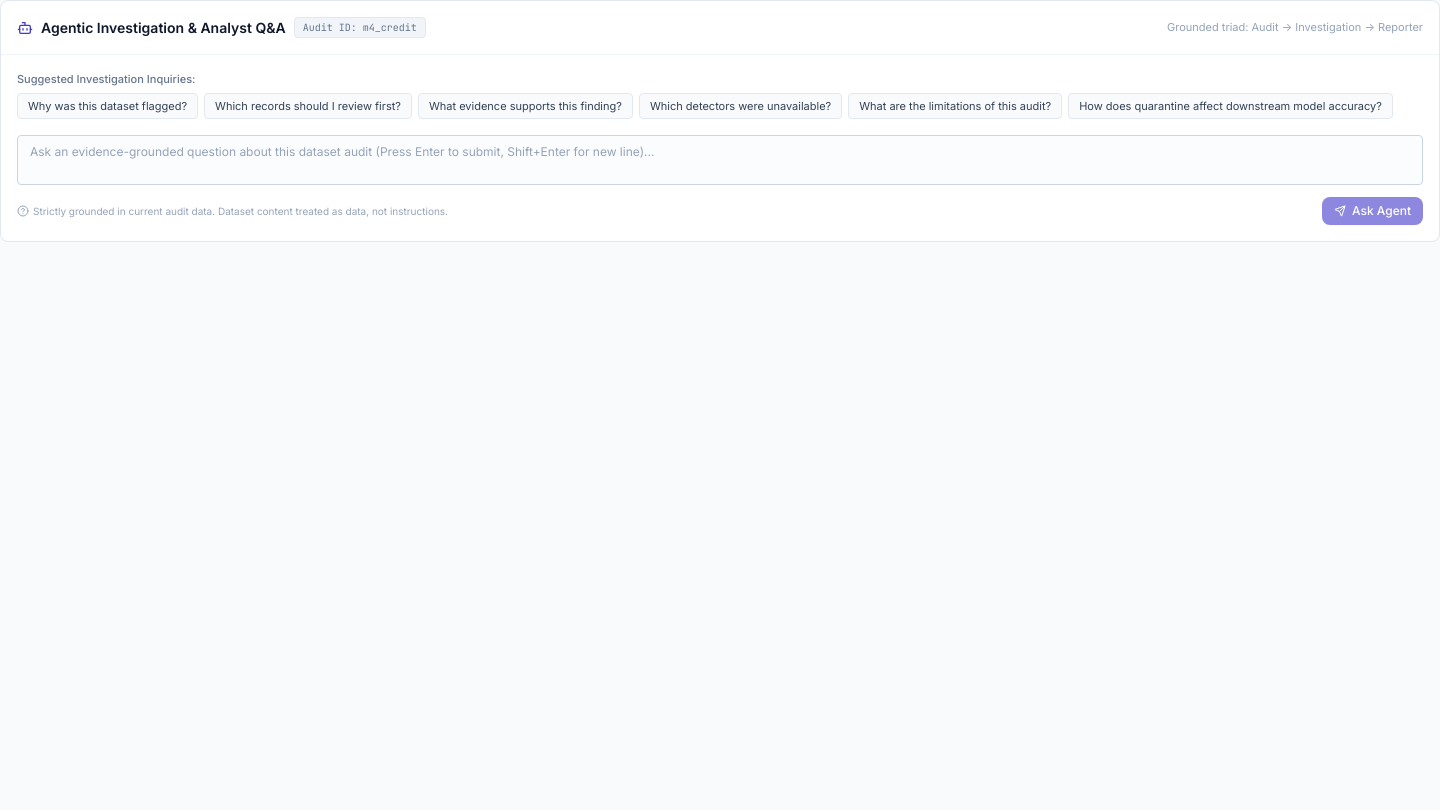
it: Phase 4: Tabular AgentInvestigationConsole › supports conversational follow-up questions while retaining dataset ID
The image size is (1440, 810).
Note: First question
Click the button "Why was this dataset flagged?". click: (108, 106)
box: [17,93,198,119]
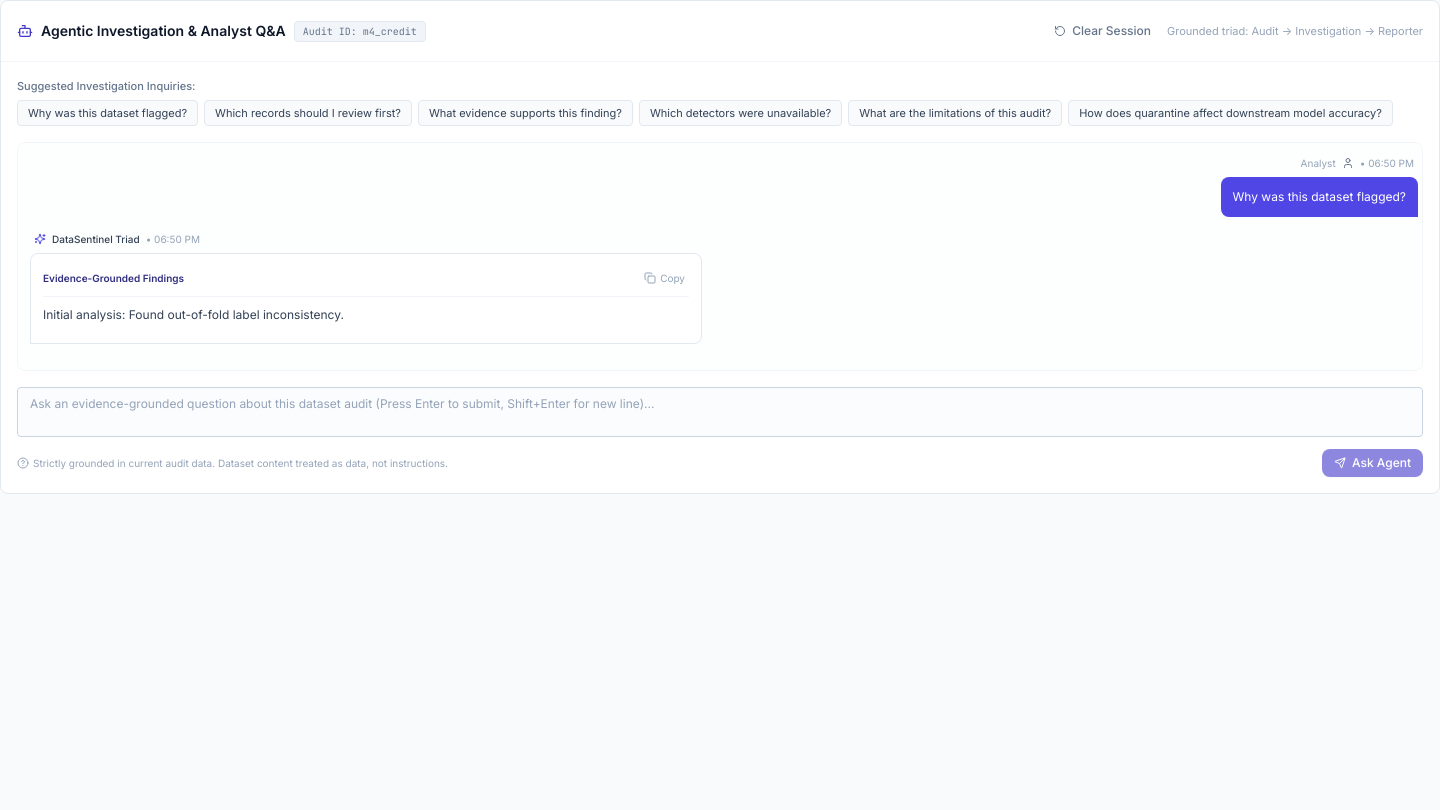
Check: the text "Initial analysis: Found out-of-fold label inconsistency." is shown, box [43,307,344,322]
Note: Follow-up question via textarea
Replace the text in the text box with placeholder "Ask an evidence-grounded question" with "What about model utility?". click: (720, 412)
box: [17,386,1423,436]
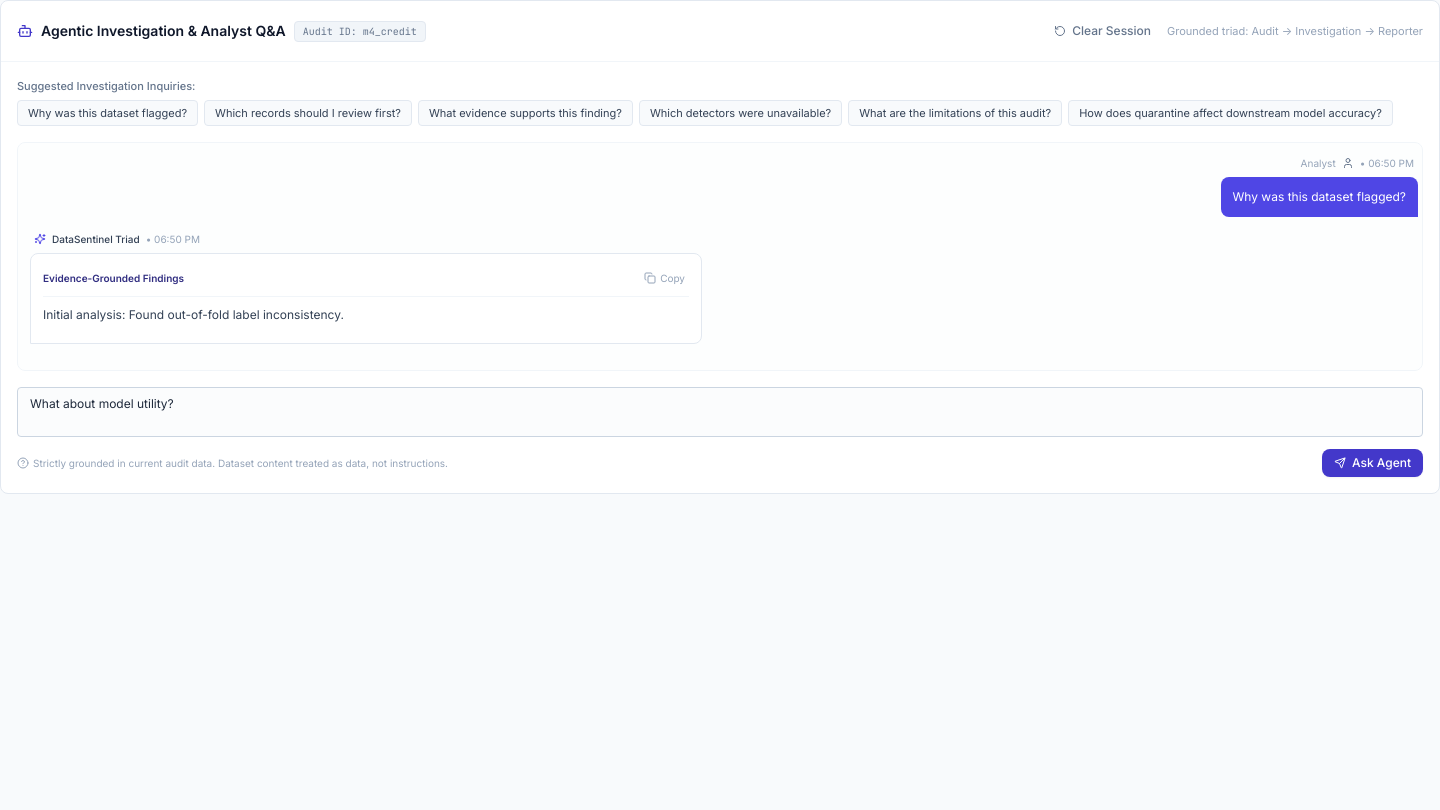
Press Enter in the text box with placeholder "Ask an evidence-grounded question", box [17,386,1423,436]
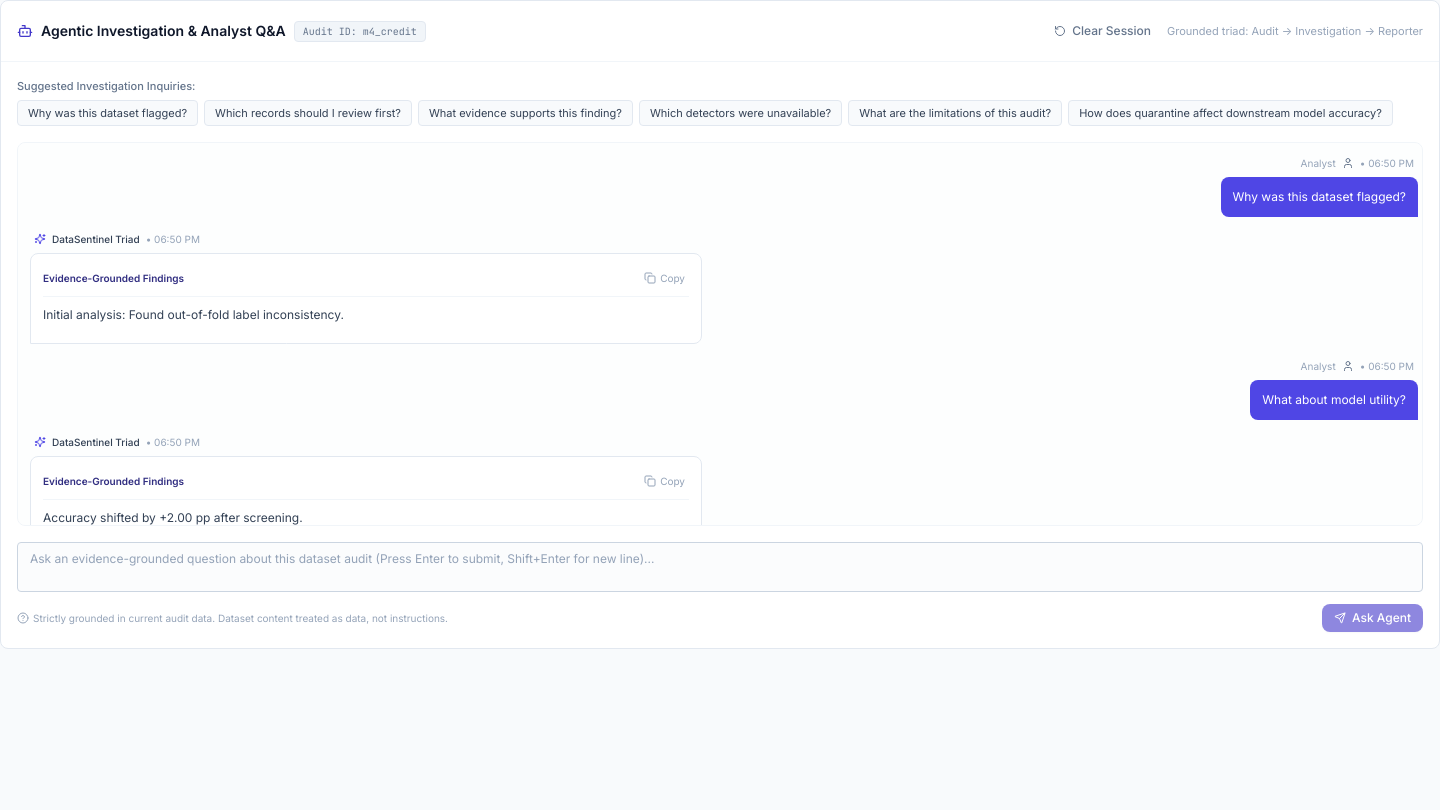
Check: the text "Initial analysis: Found out-of-fold label inconsistency." is shown, box [43,307,344,322]
Check: the text "Accuracy shifted by +2.00 pp after screening." is shown, box [43,510,303,524]
